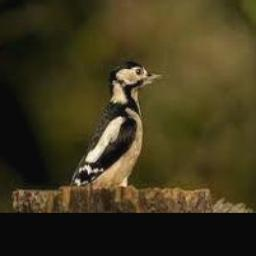Woodpecker: (70, 62, 164, 187)
